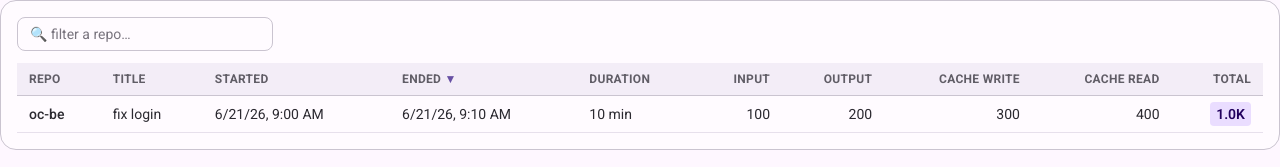
Scenario: the sorted column header carries aria-sort and an arrow
Expected: the button with test id "sort-ended" shows "▼", x1=402 y1=71 x2=457 y2=87
Step 1. Click the button with test id "sort-total" → (1232, 79), box x1=1213 y1=71 x2=1251 y2=87
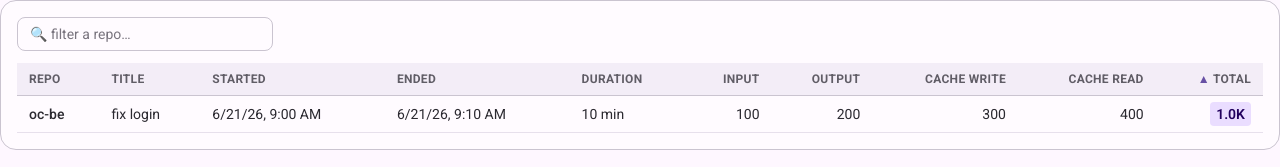
Result: the button with test id "sort-total" shows "▲" at x1=1198 y1=71 x2=1251 y2=87
